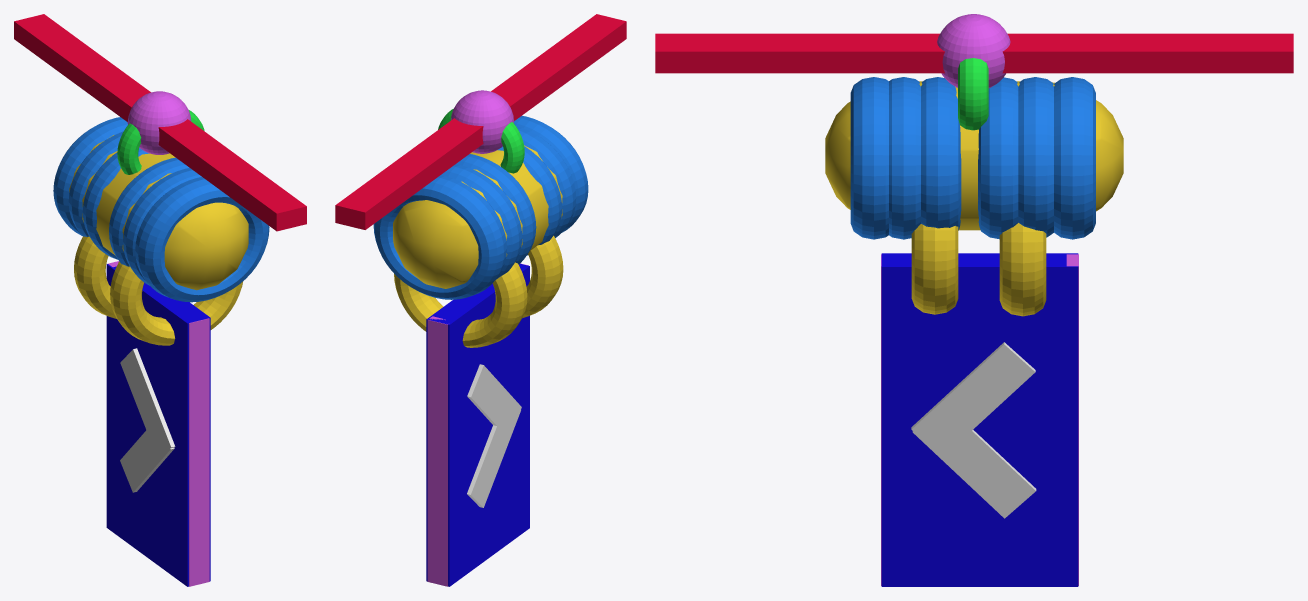
File: drone.fbx
3 renders of one model, left to right at view 1: azimuth 30°, elevation 25°; view 2: azimuth 150°, elevation 25°; view 3: azimuth 270°, elevation 25°, orthographic. The views are drawn at different scales.
Visible parts, largest first — view 1: Cube, Cube.001, Mball, Torus.001, Cube.005, Torus.006, Sphere, Torus, Torus.007, Torus.003, Cube.003, Torus.002 (+4 smaller); view 2: Cube, Cube.001, Mball, Torus, Cube.004, Torus.007, Sphere, Torus.004, Torus.006, Cube.002, Torus.005, Torus.001 (+4 smaller); view 3: Cube, Cube.001, Torus, Mball, Torus.001, Torus.003, Torus.005, Cube.003, Torus.004, Torus.002, Cube.002, Torus.007 (+3 smaller).
Part boxes in pixels (x1=…): Cube: x1=106, y1=264, x2=210, y2=586; Cube.001: x1=14, y1=14, x2=306, y2=231; Mball: x1=69, y1=135, x2=248, y2=290; Torus.001: x1=135, y1=177, x2=269, y2=302; Cube.005: x1=189, y1=318, x2=209, y2=586; Torus.006: x1=110, y1=261, x2=242, y2=345; Sphere: x1=127, y1=91, x2=191, y2=154; Torus: x1=53, y1=117, x2=127, y2=235; Torus.007: x1=74, y1=236, x2=116, y2=318; Torus.003: x1=109, y1=157, x2=189, y2=266; Cube.003: x1=120, y1=417, x2=174, y2=492; Torus.002: x1=123, y1=168, x2=201, y2=285; Cube: x1=426, y1=263, x2=529, y2=586; Cube.001: x1=335, y1=14, x2=626, y2=229; Mball: x1=393, y1=145, x2=562, y2=288; Torus: x1=373, y1=175, x2=506, y2=299; Cube.004: x1=427, y1=316, x2=447, y2=586; Torus.007: x1=394, y1=262, x2=527, y2=347; Sphere: x1=451, y1=90, x2=513, y2=153; Torus.004: x1=441, y1=164, x2=522, y2=279; Torus.006: x1=522, y1=235, x2=563, y2=317; Cube.002: x1=467, y1=364, x2=521, y2=438; Torus.005: x1=456, y1=154, x2=536, y2=264; Torus.001: x1=514, y1=115, x2=588, y2=232; Cube: x1=881, y1=253, x2=1078, y2=586; Cube.001: x1=655, y1=33, x2=1293, y2=73; Torus: x1=1054, y1=77, x2=1095, y2=239; Mball: x1=825, y1=81, x2=1123, y2=230; Torus.001: x1=850, y1=77, x2=888, y2=239; Torus.003: x1=921, y1=77, x2=961, y2=230; Torus.005: x1=978, y1=77, x2=1018, y2=239; Cube.003: x1=912, y1=405, x2=1036, y2=518; Torus.004: x1=1018, y1=77, x2=1053, y2=237; Torus.002: x1=889, y1=77, x2=920, y2=239; Cube.002: x1=911, y1=342, x2=1035, y2=456; Torus.007: x1=999, y1=223, x2=1046, y2=316.
Bounding box in the file's own units: 192 × 661 × 681.
